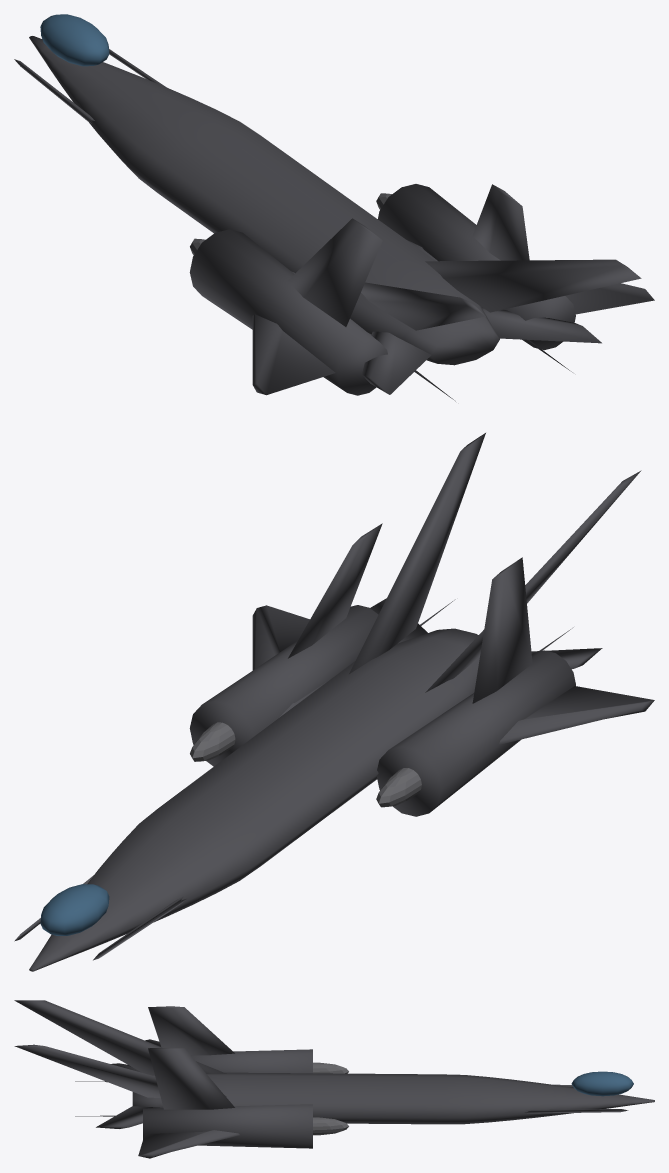
3 renders of one model, top to bottom at view 1: azimuth 30°, elevation 25°; view 2: azimuth 150°, elevation 25°; view 3: azimuth 270°, elevation 25°, orthographic. The views are drawn at different scales.
Visible parts, largest first — view 1: Body, Canopy; view 2: Body, Canopy, Detail; view 3: Body, Canopy, Detail.
Part boxes in pixels (box(x1,y1,x2,y2)): Body: box(14, 36, 654, 401); Canopy: box(40, 14, 109, 66); Body: box(14, 433, 654, 971); Canopy: box(40, 884, 109, 935); Detail: box(190, 722, 421, 807); Body: box(14, 1000, 654, 1158); Canopy: box(571, 1071, 633, 1096); Detail: box(313, 1062, 348, 1135).
Bounding box in the file's own units: 1690 × 666 × 4013.
